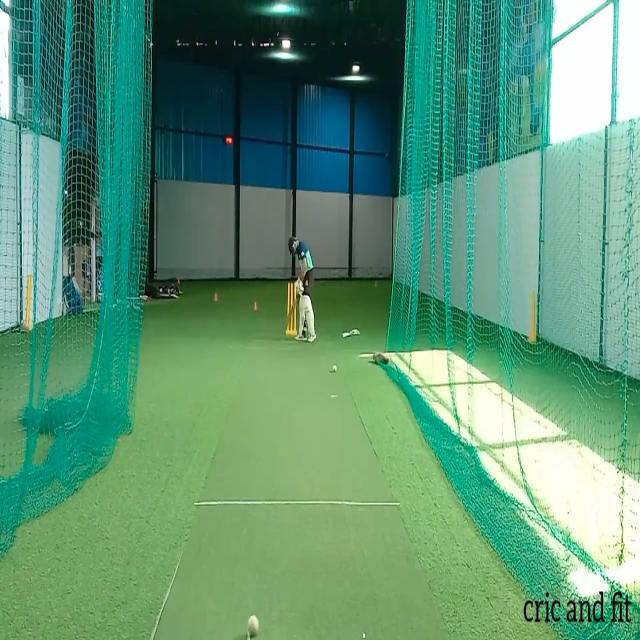batsman: (286, 235, 317, 344)
